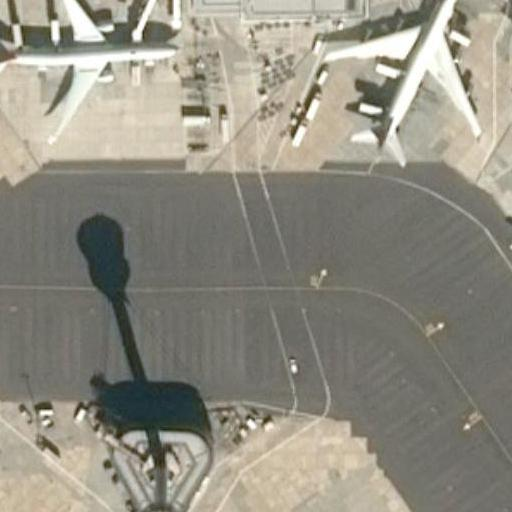Aircraft: (313, 0, 484, 167), (0, 0, 181, 138), (509, 136, 512, 300)
